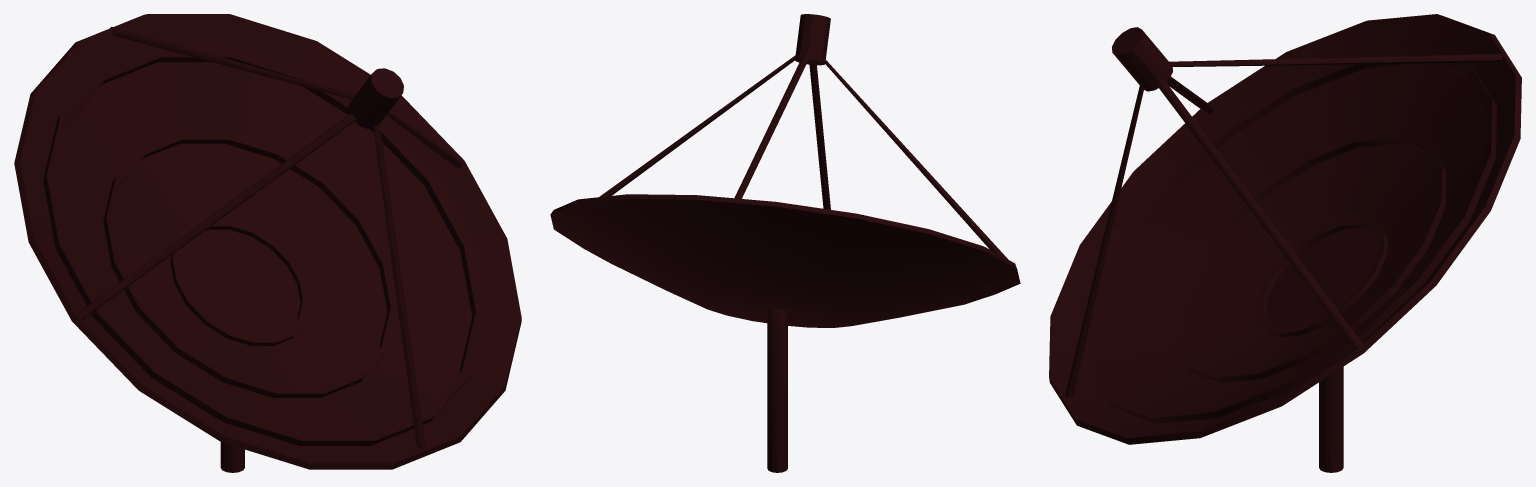
File: SM_Antenna.fbx
3 renders of one model, left to right at view 1: azimuth 30°, elevation 25°; view 2: azimuth 150°, elevation 25°; view 3: azimuth 270°, elevation 25°, orthographic. The views are drawn at different scales.
Parts seen in each view (by area): view 1: Antenna; view 2: Antenna; view 3: Antenna.
Part boxes in pixels (<box>): Antenna: <box>14,14,521,472</box>; Antenna: <box>550,14,1020,472</box>; Antenna: <box>1049,14,1521,472</box>.
Bounding box in the file's own units: 95.39 × 87.16 × 80.53.
